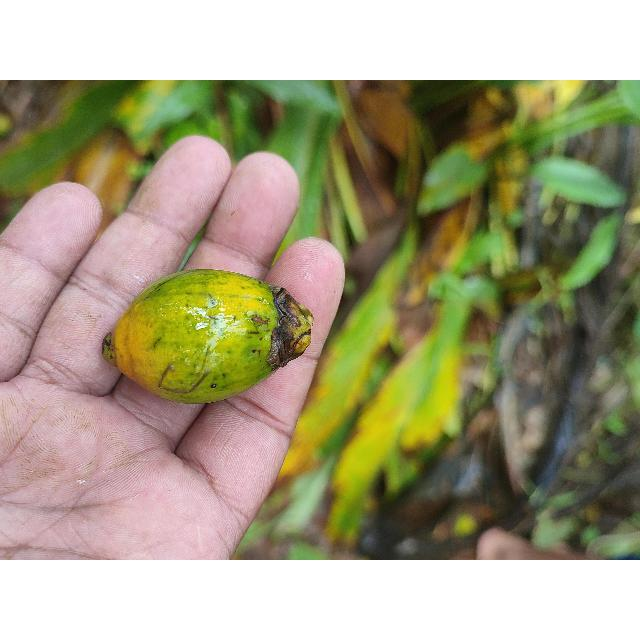damaged: (100, 270, 313, 405)
